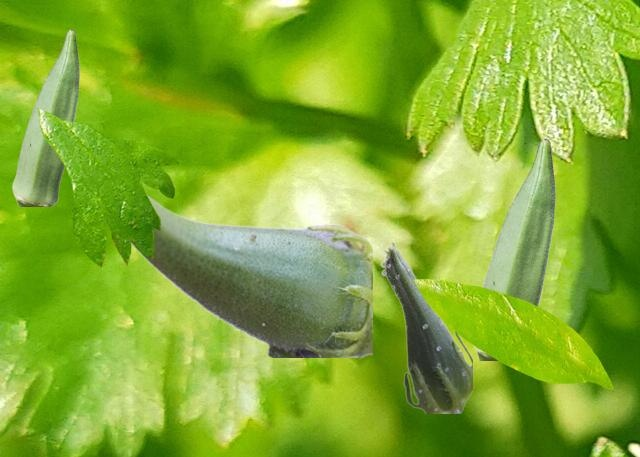okra: (132, 194, 371, 356), (472, 138, 554, 359), (380, 241, 471, 412), (12, 29, 78, 205)
